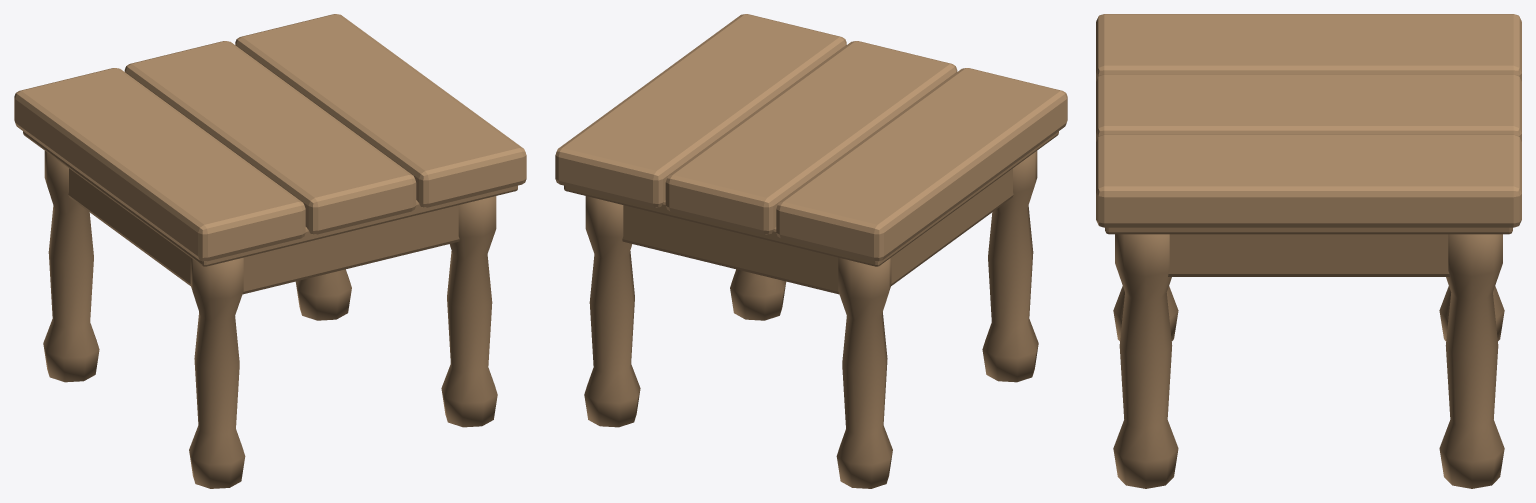
File: pushable_table.glb
3 views of the same model, side by side, from view 1: azimuth 30°, elevation 25°; view 2: azimuth 150°, elevation 25°; view 3: azimuth 270°, elevation 25° (orthographic). The views are drawn at different scales.
Visible parts, largest first — view 1: TablePlank_0, TablePlank_1, TablePlank_2, TableTurnedLeg_-0.36_-0.36, TableTurnedLeg_0.36_-0.36, TableTurnedLeg_-0.36_0.36, ApronS, ApronW, TableUnderFrame, TableTurnedLeg_0.36_0.36; view 2: TablePlank_0, TablePlank_1, TablePlank_2, TableTurnedLeg_-0.36_0.36, TableTurnedLeg_0.36_0.36, TableTurnedLeg_-0.36_-0.36, ApronN, ApronW, TableUnderFrame, TableTurnedLeg_0.36_-0.36; view 3: TablePlank_2, TablePlank_1, TablePlank_0, TableTurnedLeg_0.36_0.36, TableTurnedLeg_0.36_-0.36, ApronE, TableUnderFrame, TableTurnedLeg_-0.36_0.36, TableTurnedLeg_-0.36_-0.36.
Boxes of the visible parts, x1=… form: TablePlank_0: x1=14, y1=68, x2=305, y2=261; TablePlank_1: x1=124, y1=41, x2=416, y2=234; TablePlank_2: x1=235, y1=14, x2=526, y2=207; TableTurnedLeg_-0.36_-0.36: x1=189, y1=257, x2=245, y2=488; TableTurnedLeg_0.36_-0.36: x1=441, y1=196, x2=497, y2=427; TableTurnedLeg_-0.36_0.36: x1=43, y1=151, x2=99, y2=382; ApronS: x1=243, y1=205, x2=459, y2=294; ApronW: x1=68, y1=168, x2=190, y2=285; TableUnderFrame: x1=23, y1=131, x2=517, y2=266; TableTurnedLeg_0.36_0.36: x1=295, y1=269, x2=351, y2=320; TablePlank_0: x1=776, y1=68, x2=1067, y2=261; TablePlank_1: x1=665, y1=41, x2=957, y2=234; TablePlank_2: x1=555, y1=14, x2=846, y2=207; TableTurnedLeg_-0.36_0.36: x1=836, y1=257, x2=892, y2=488; TableTurnedLeg_0.36_0.36: x1=584, y1=196, x2=640, y2=427; TableTurnedLeg_-0.36_-0.36: x1=982, y1=151, x2=1038, y2=382; ApronN: x1=622, y1=205, x2=838, y2=294; ApronW: x1=891, y1=168, x2=1013, y2=285; TableUnderFrame: x1=564, y1=131, x2=1058, y2=266; TableTurnedLeg_0.36_-0.36: x1=730, y1=269, x2=786, y2=320; TablePlank_2: x1=1096, y1=134, x2=1521, y2=227; TablePlank_1: x1=1096, y1=74, x2=1521, y2=141; TablePlank_0: x1=1096, y1=14, x2=1521, y2=81; TableTurnedLeg_0.36_0.36: x1=1439, y1=234, x2=1504, y2=488; TableTurnedLeg_0.36_-0.36: x1=1113, y1=234, x2=1178, y2=488; ApronE: x1=1168, y1=234, x2=1449, y2=276; TableUnderFrame: x1=1105, y1=227, x2=1512, y2=234; TableTurnedLeg_-0.36_0.36: x1=1439, y1=286, x2=1504, y2=341; TableTurnedLeg_-0.36_-0.36: x1=1113, y1=286, x2=1178, y2=341.
Bounding box in the file's own units: 0.935 × 0.75 × 0.94.
